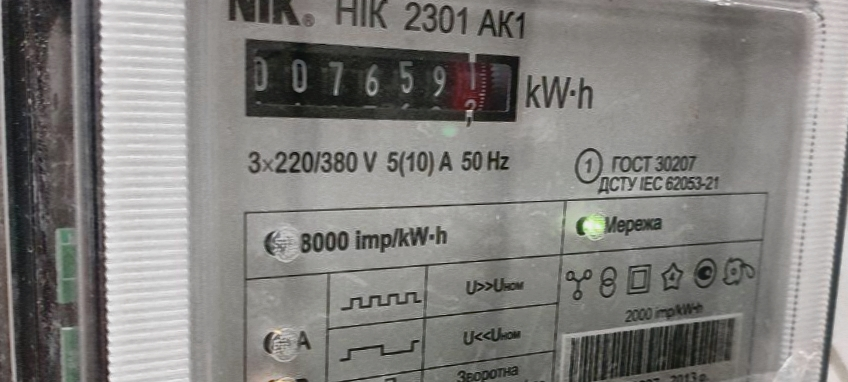0: (286, 54, 311, 96), (247, 53, 271, 94)
1: (463, 61, 481, 94)
5: (395, 58, 416, 96)
6: (360, 60, 382, 100)
7: (325, 58, 345, 99)
9: (429, 63, 447, 100)
screen: (233, 21, 530, 150)
